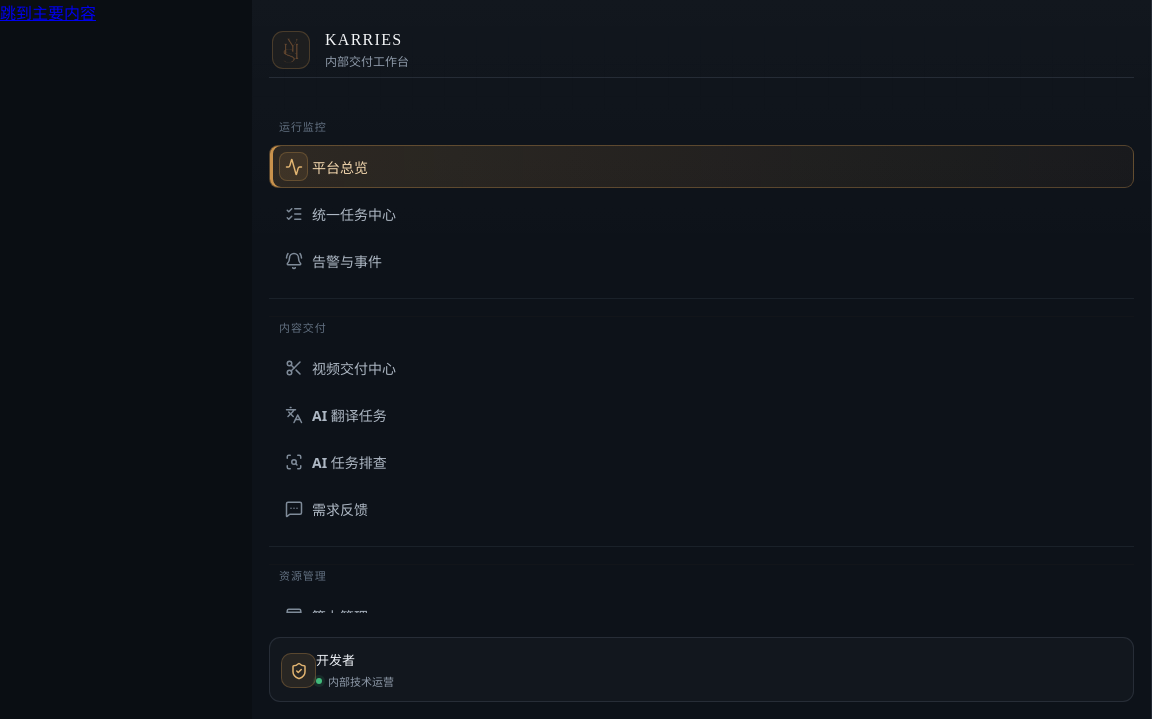
opens every P0 operations module from developer navigation
The image size is (1152, 719).
Click the button "统一任务中心": [354, 214] box x1=269 y1=192 x2=1134 y2=235
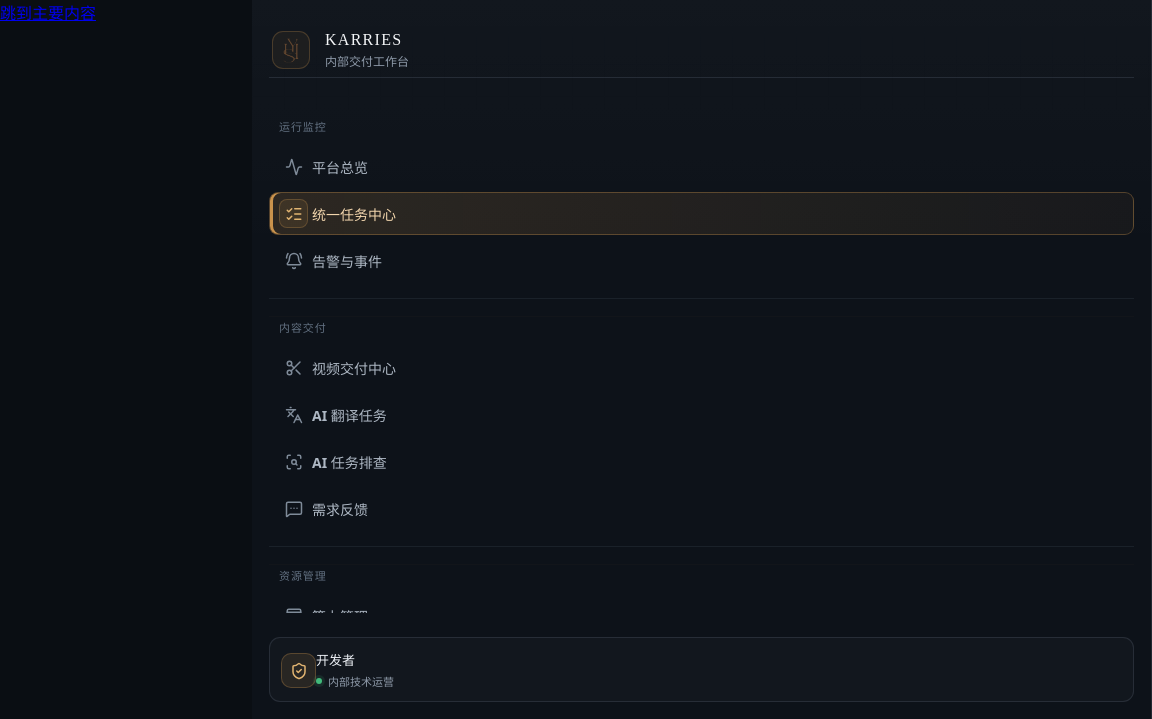
Click the button "告警与事件": [347, 261] box x1=269 y1=239 x2=1134 y2=282
(page scrolled)
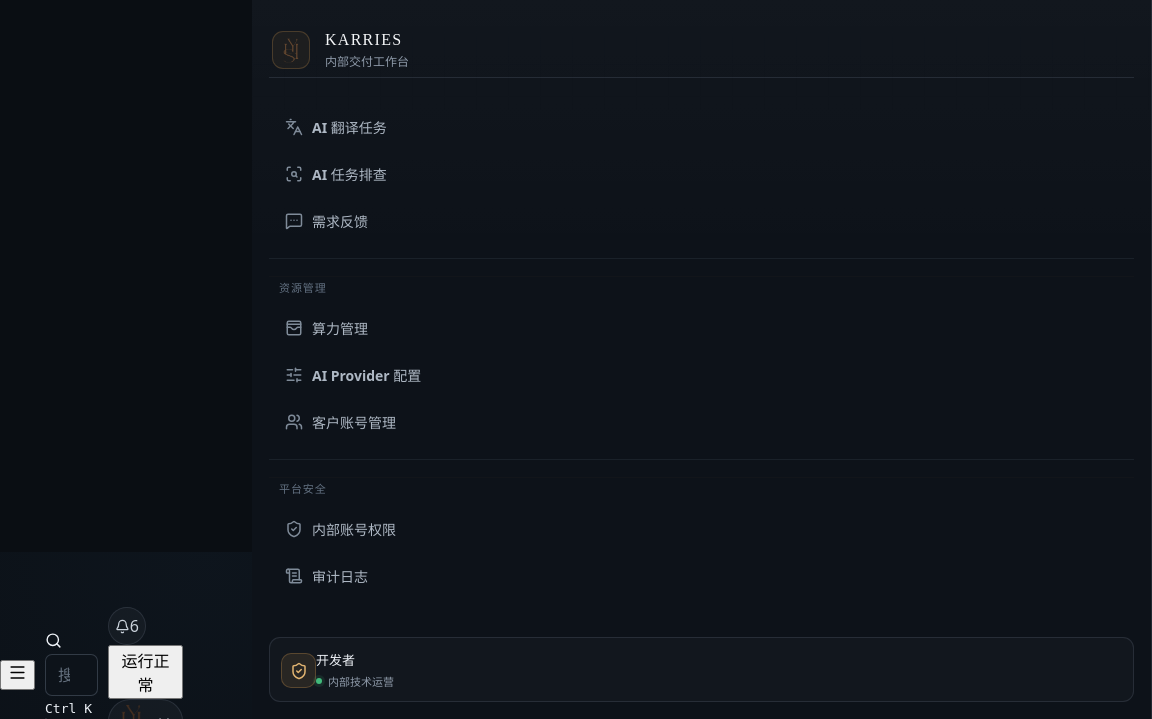
Click the button "内部账号权限": [354, 529] box x1=269 y1=507 x2=1134 y2=550
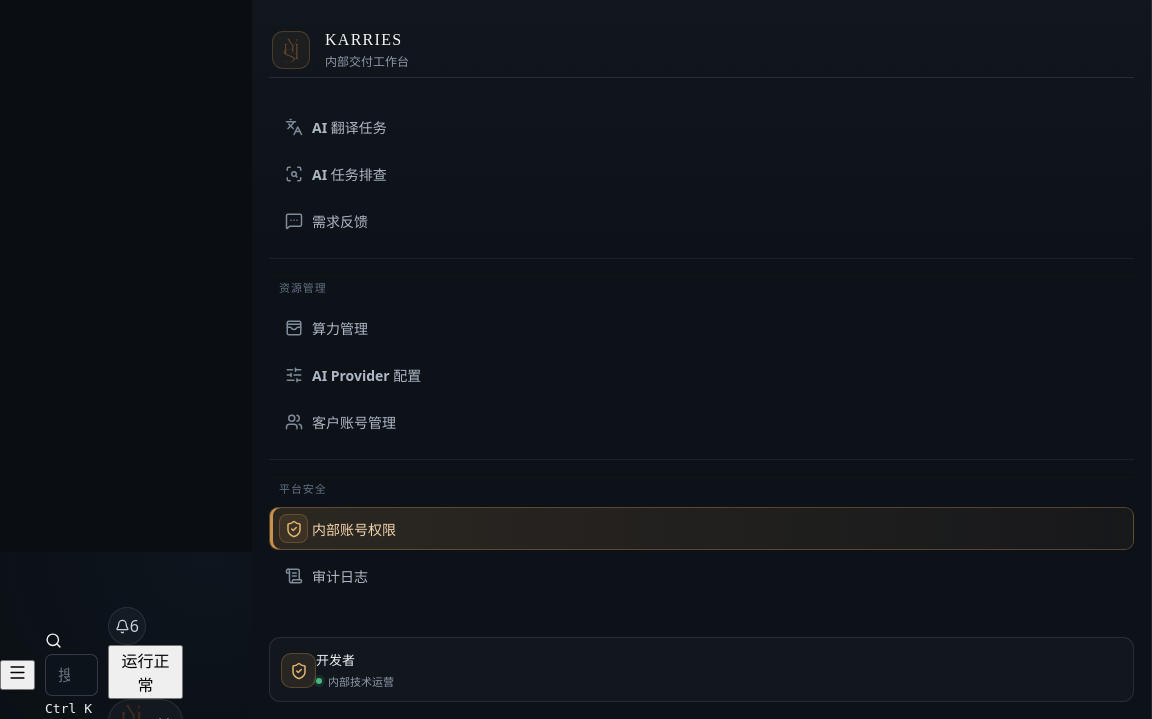
Click the button "审计日志": [340, 576] box x1=269 y1=554 x2=1134 y2=597
(page scrolled)
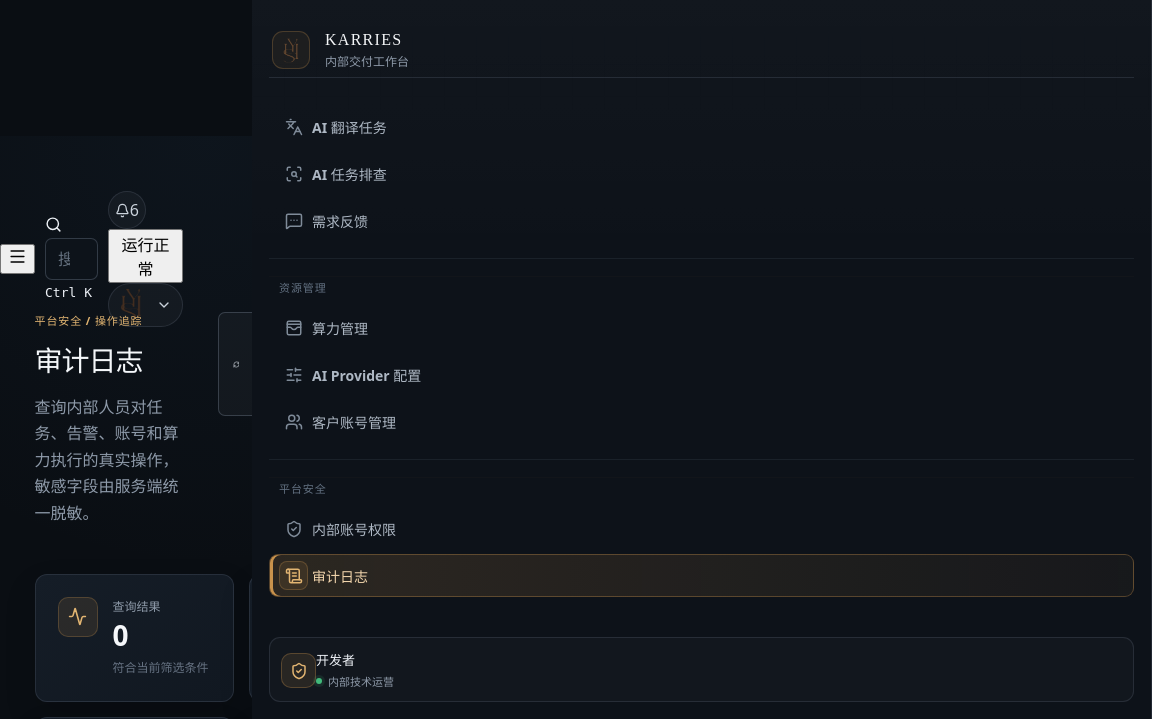
Expected: the heading "审计日志" is shown, x1=34 y1=341 x2=143 y2=379
